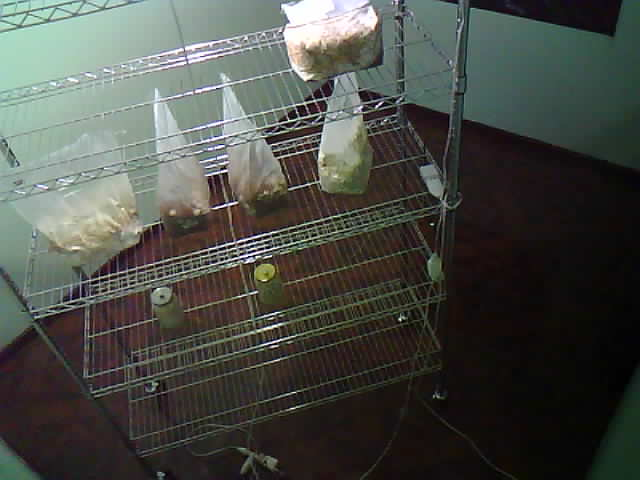bloco: (17, 128, 138, 279), (204, 73, 292, 229), (140, 88, 209, 242), (271, 1, 385, 88), (321, 75, 387, 220)
